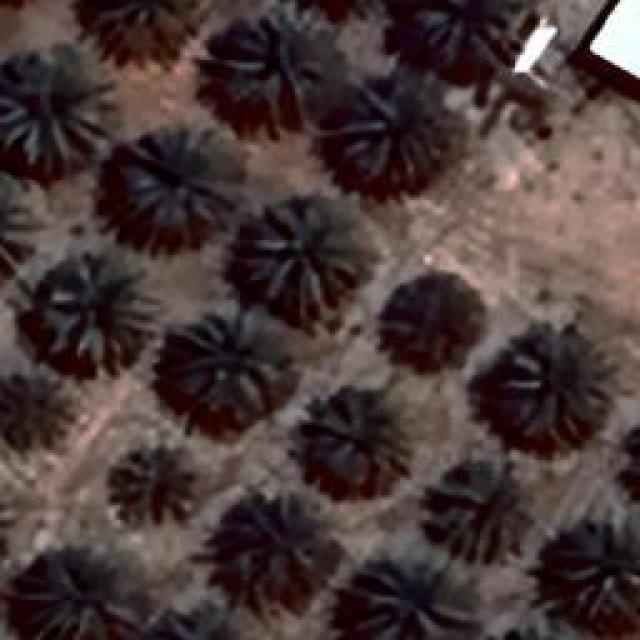PalmTree: (245, 187, 375, 315), (0, 42, 120, 170), (45, 250, 160, 365), (420, 452, 538, 560), (500, 330, 610, 445), (177, 305, 285, 420), (338, 70, 442, 185), (352, 544, 478, 638), (122, 125, 235, 225), (305, 390, 413, 490), (220, 2, 322, 100), (226, 498, 332, 592), (110, 438, 208, 528), (6, 552, 109, 632), (560, 510, 638, 615), (388, 276, 474, 366), (420, 0, 530, 62), (0, 368, 70, 464), (94, 0, 196, 60), (0, 183, 49, 287), (137, 596, 248, 640), (476, 614, 580, 640)
